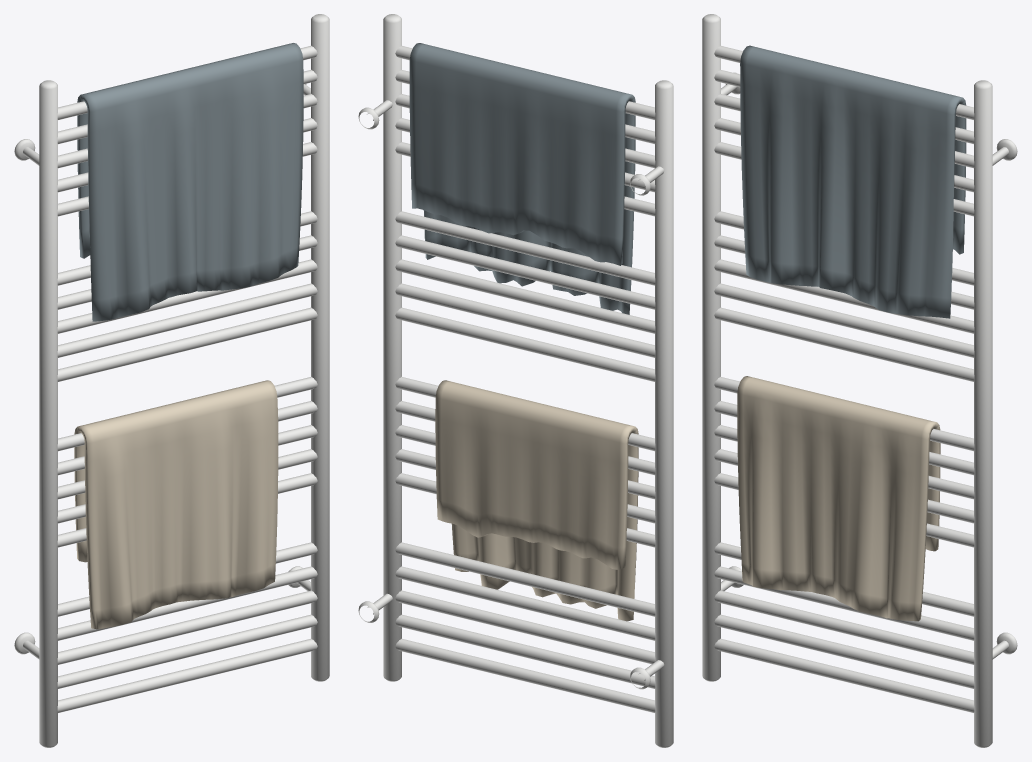
File: towel_rail.glb
The picture shows the model from 3 angles, left to right: view 1: azimuth 30°, elevation 25°; view 2: azimuth 150°, elevation 25°; view 3: azimuth 330°, elevation 25°; orthographic projection.
Parts seen in each view (by area): view 1: towel_rail; view 2: towel_rail; view 3: towel_rail.
Part boxes in pixels (bbox=[...]): towel_rail: bbox=[14, 14, 329, 747]; towel_rail: bbox=[358, 14, 673, 747]; towel_rail: bbox=[702, 14, 1017, 747].
Size of the model in its own units: 0.506 by 1.1 by 0.128.
